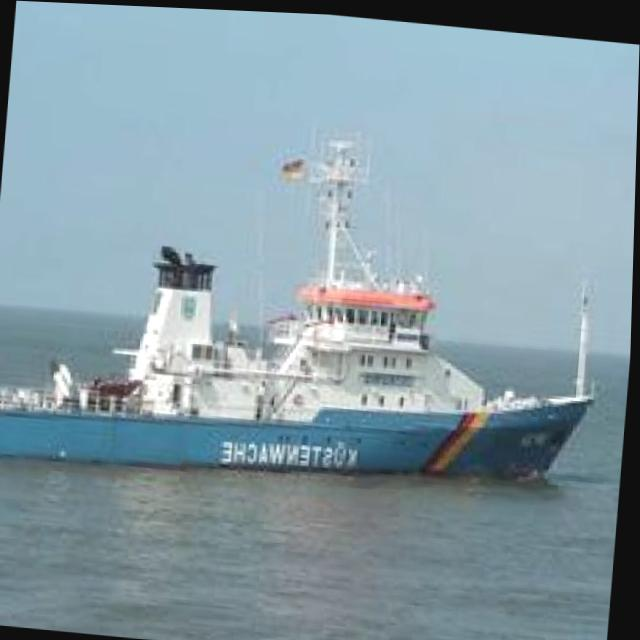ship2: (0, 127, 596, 482)
